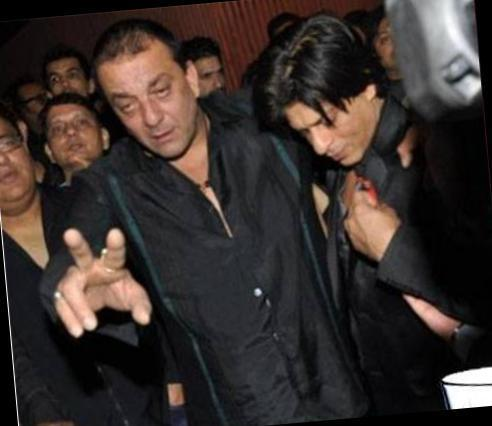Drunk: (103, 58, 198, 159), (279, 98, 375, 168)
